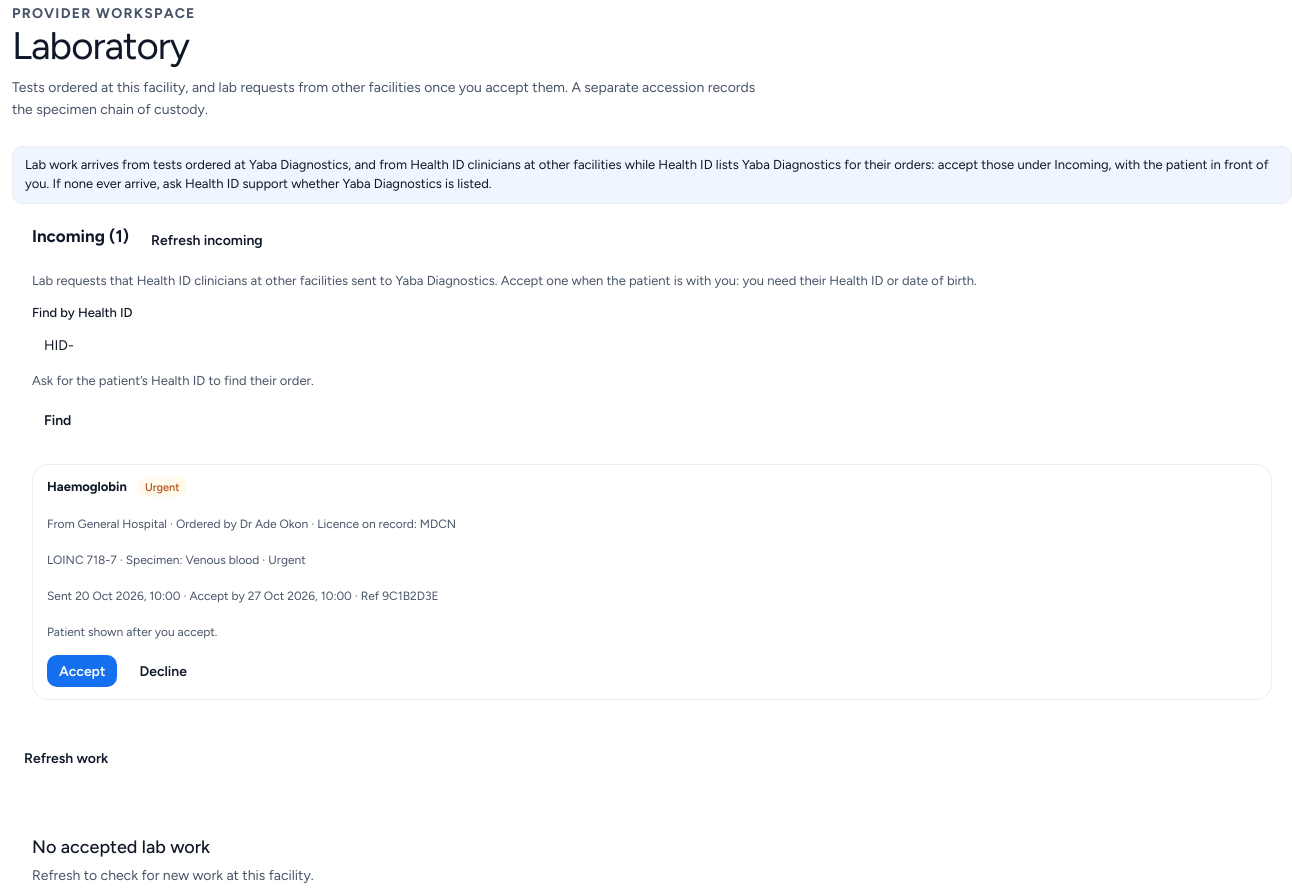
Test case: Incoming at a laboratory › says what a refused acceptance means (ORDER_ROUTE_HEALTH_ID_REQUIRED)
Click the button "Accept".
click(82, 671)  # box top-left (47, 655), bottom-right (118, 687)
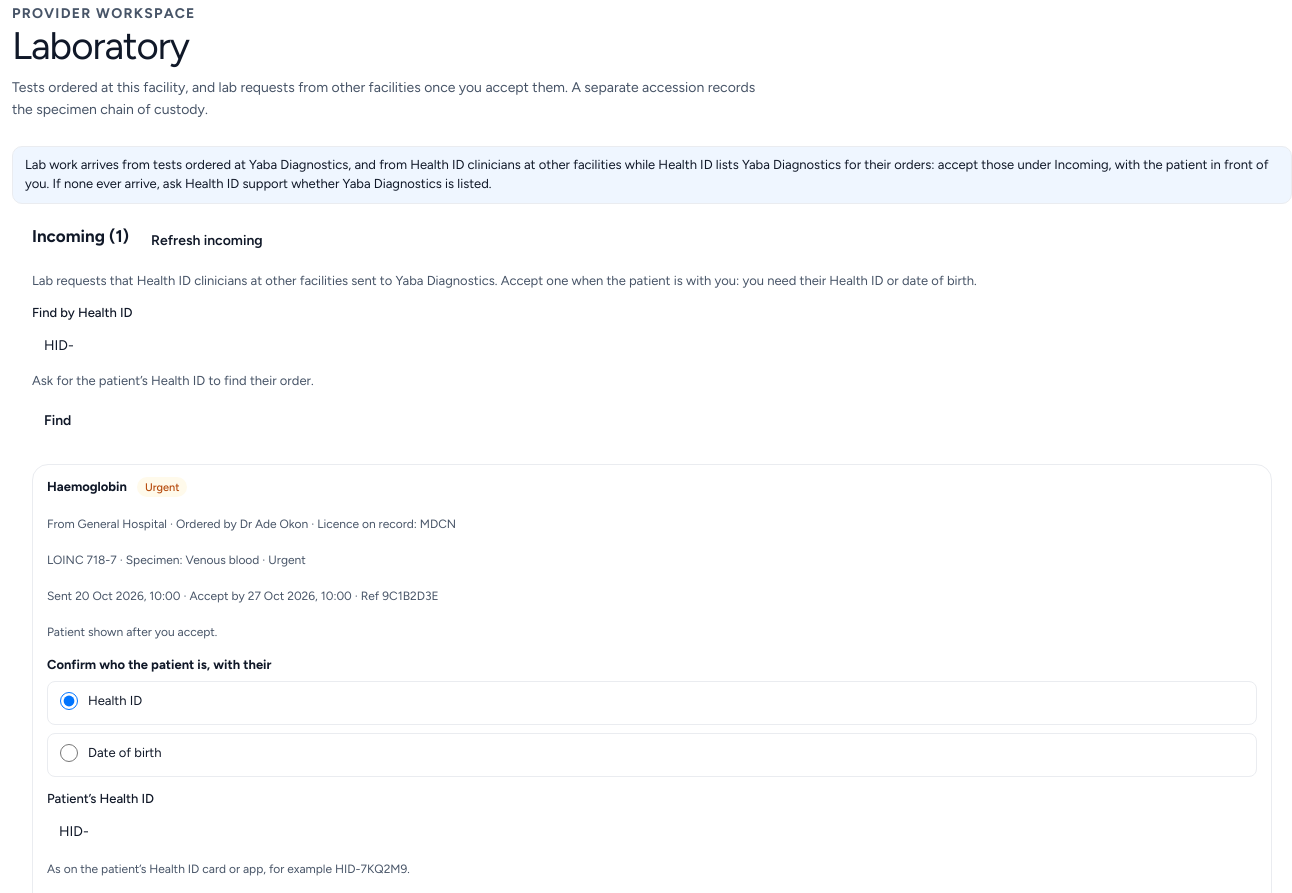
Replace the text in the field labelled "Patient’s Health ID" with "HID-7KQ2M9" at (652, 832), box top-left (47, 813), bottom-right (1257, 850)
(page scrolled)
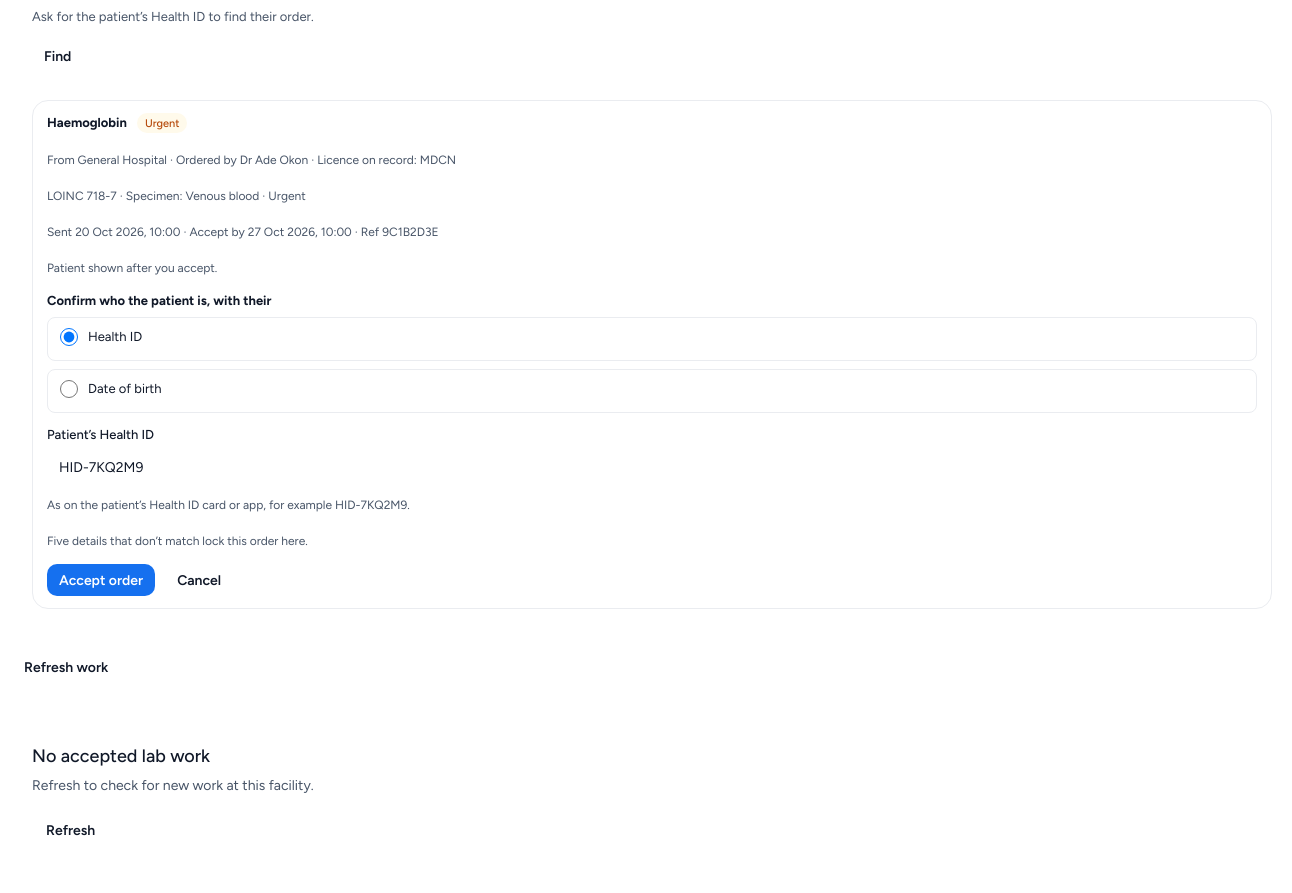
Click the button "Accept order".
click(101, 580)  # box top-left (47, 564), bottom-right (155, 596)
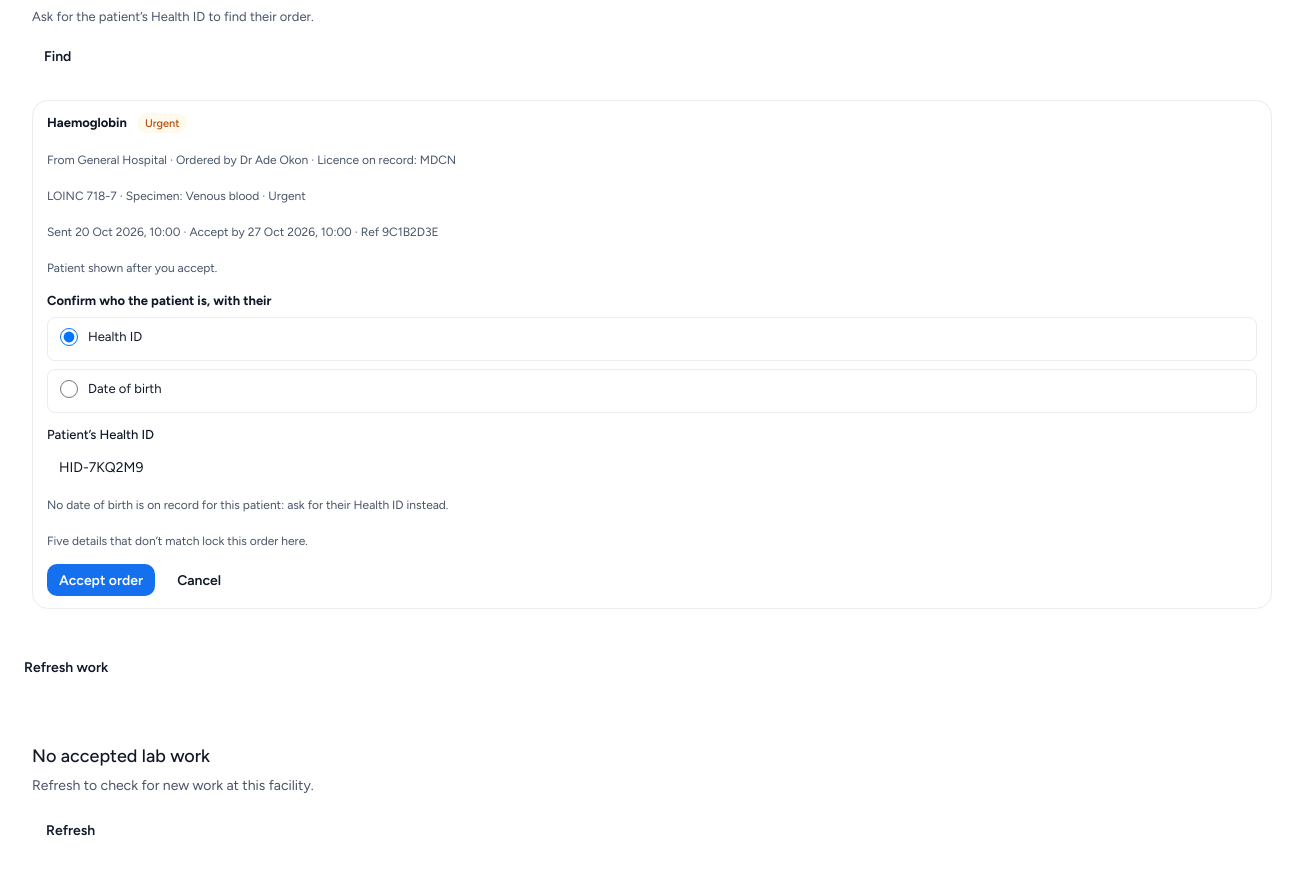
Now the text "No date of birth is on record for this patient: ask for their Health ID instead." is shown, box top-left (47, 498), bottom-right (448, 512)
